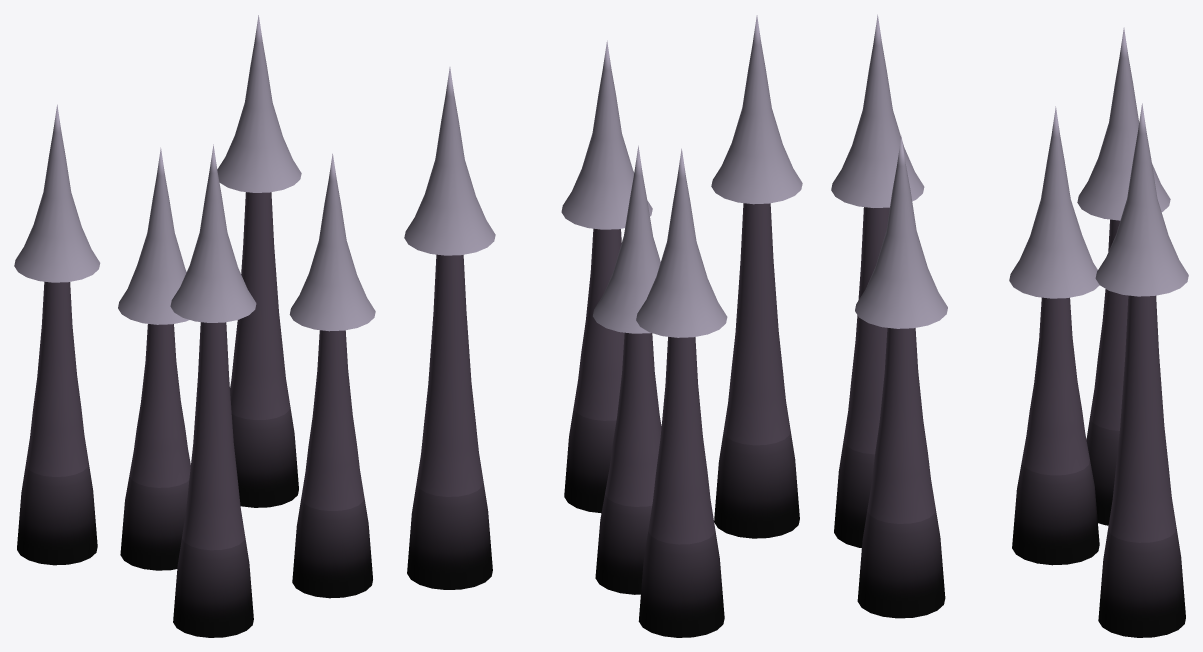
The model's file is CA_170_trap_spears.glb.
3 renders of one model, left to right at view 1: azimuth 30°, elevation 25°; view 2: azimuth 150°, elevation 25°; view 3: azimuth 270°, elevation 25°, orthographic. The views are drawn at different scales.
Visible parts, largest first — view 1: spear_1, spear_4, spear_3, spear_2, spear_5; view 2: spear_3, spear_1, spear_4, spear_5, spear_2; view 3: spear_3, spear_2, spear_5, spear_1, spear_4.
Part boxes in pixels (<box>): spear_1: <box>170,144,256,637</box>; spear_4: <box>14,104,100,565</box>; spear_3: <box>217,15,301,507</box>; spear_2: <box>289,153,375,598</box>; spear_5: <box>118,147,190,570</box>; spear_3: <box>404,67,495,589</box>; spear_1: <box>711,15,802,538</box>; spear_4: <box>636,148,727,637</box>; spear_5: <box>593,145,661,594</box>; spear_2: <box>561,40,652,513</box>; spear_3: <box>1095,103,1188,637</box>; spear_2: <box>855,135,947,618</box>; spear_5: <box>1009,106,1099,565</box>; spear_1: <box>831,14,924,548</box>; spear_4: <box>1077,27,1170,525</box>.
Size of the model in its own units: 1.37 by 2.2 by 1.38.
Materials: 3 (1 with a texture image).
